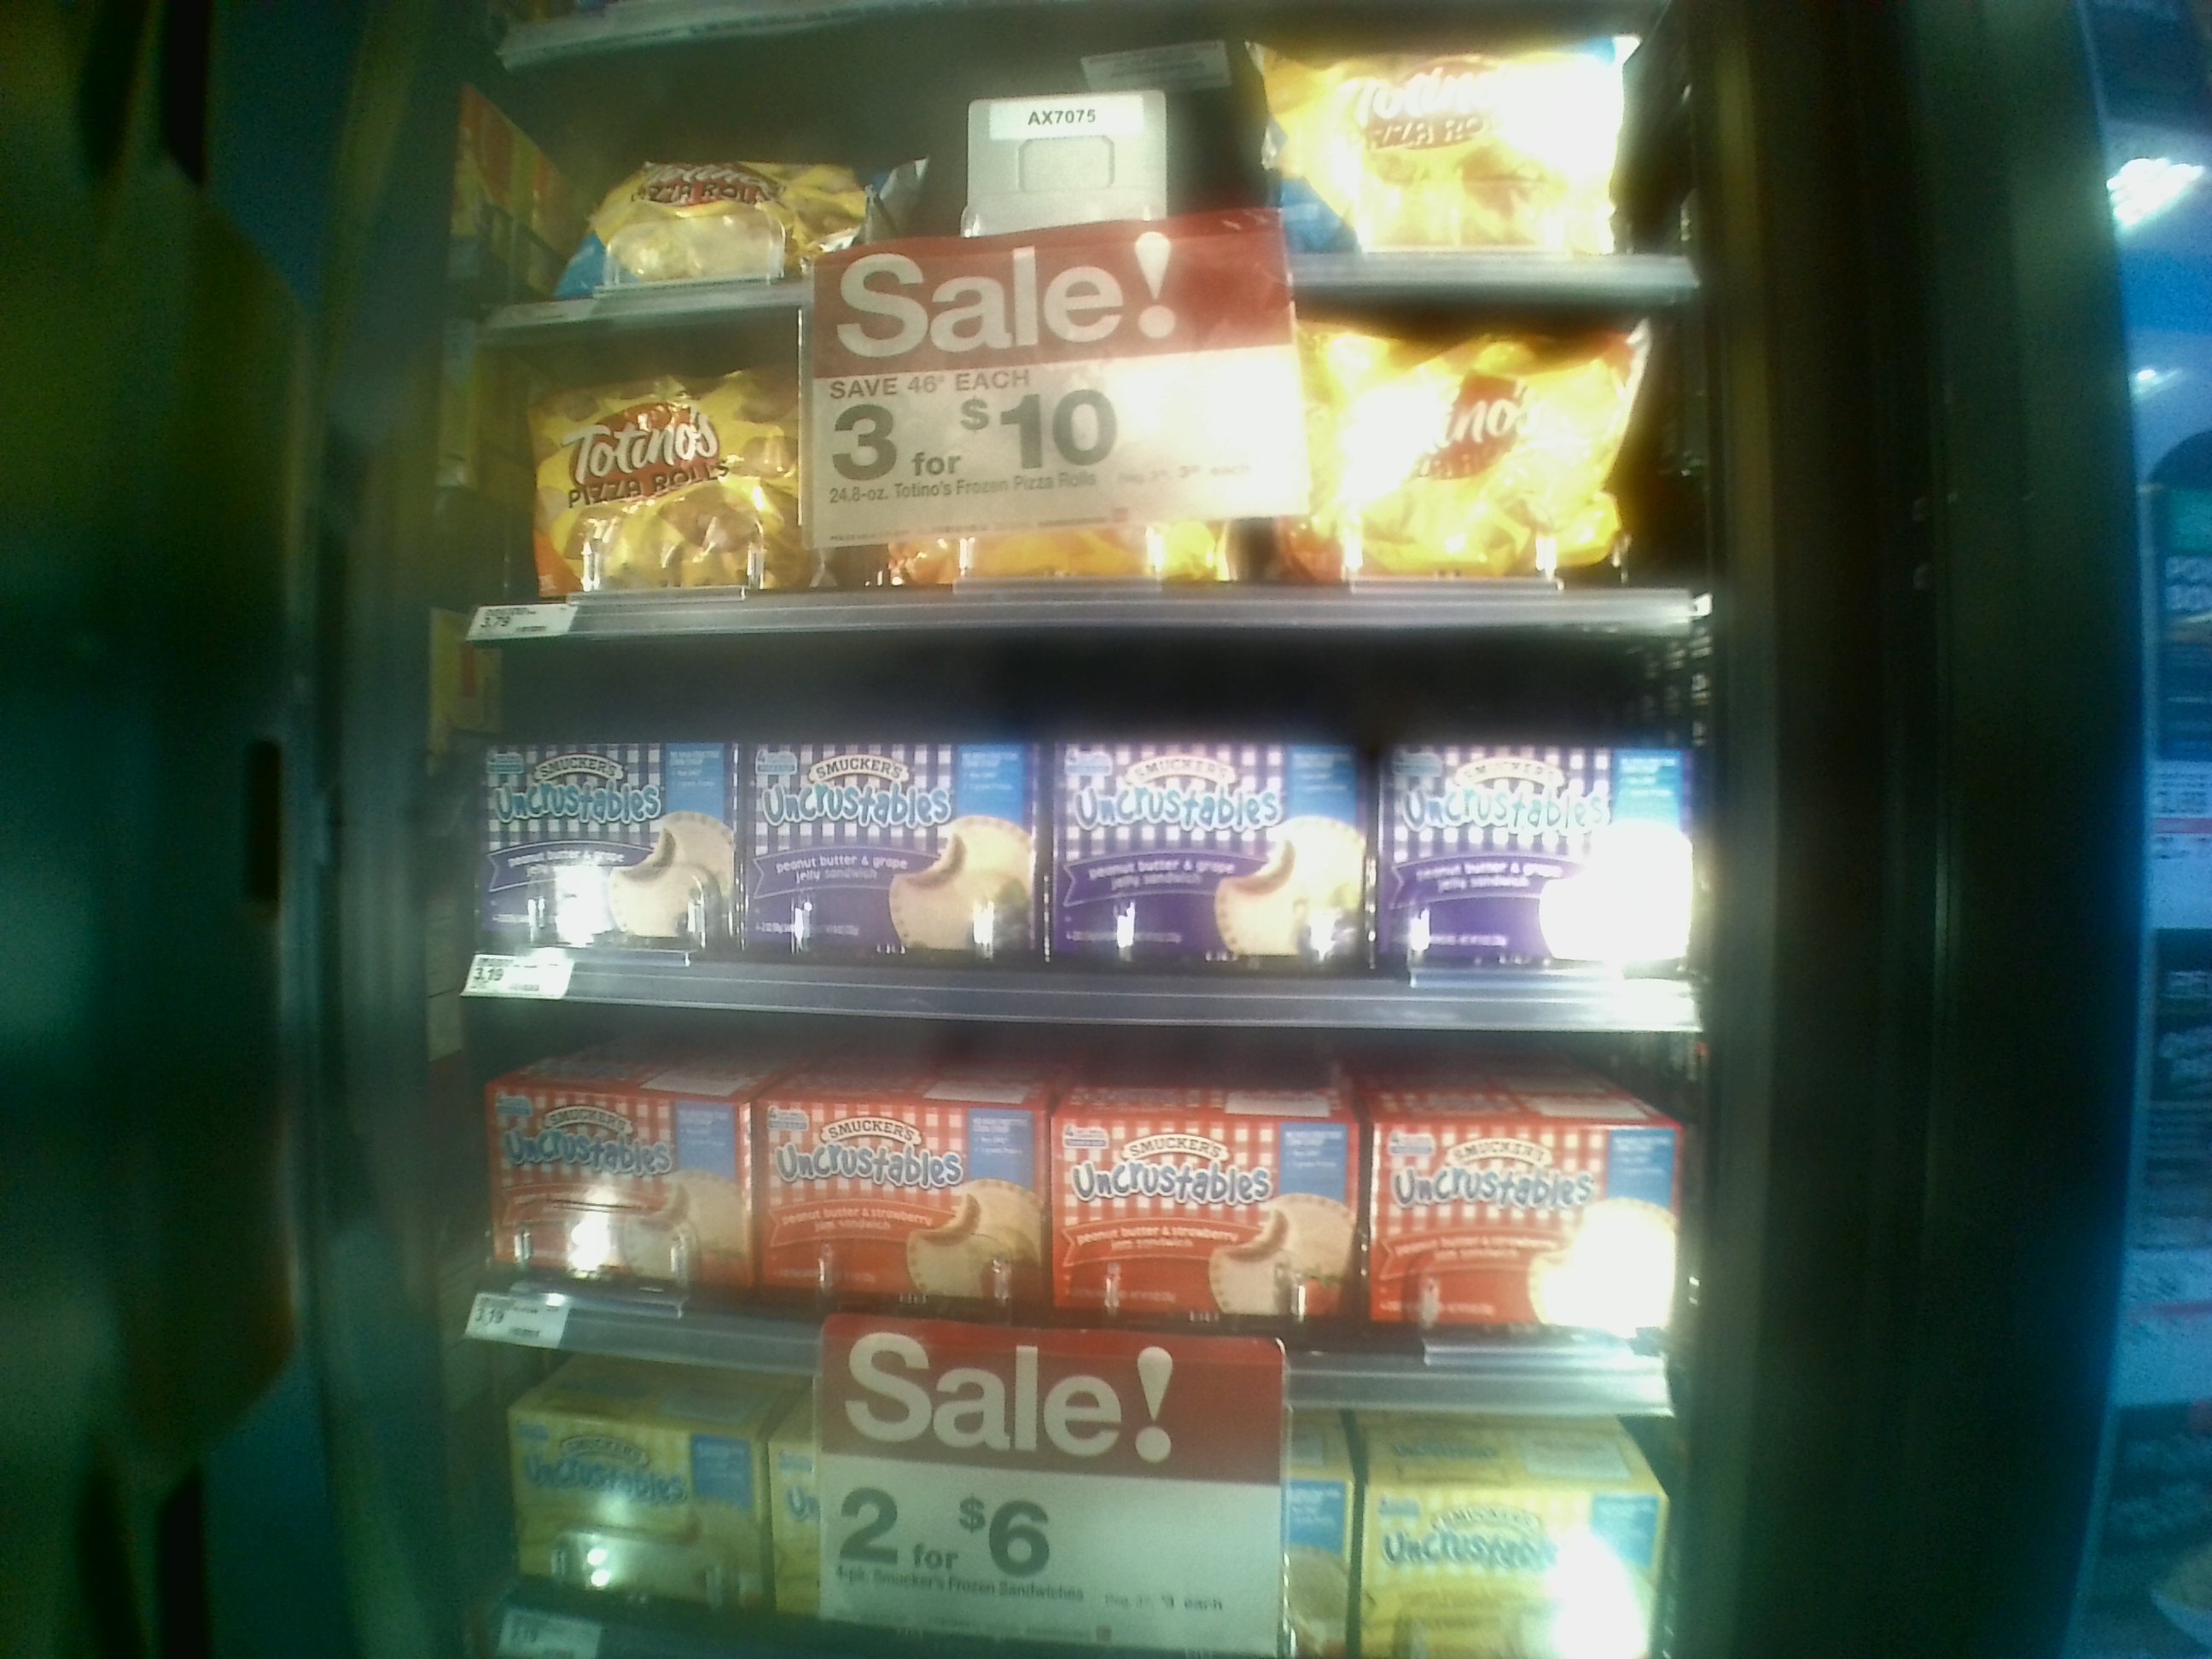shelf: (404, 1006, 1700, 1427), (408, 638, 1724, 1049), (404, 333, 1702, 638)
